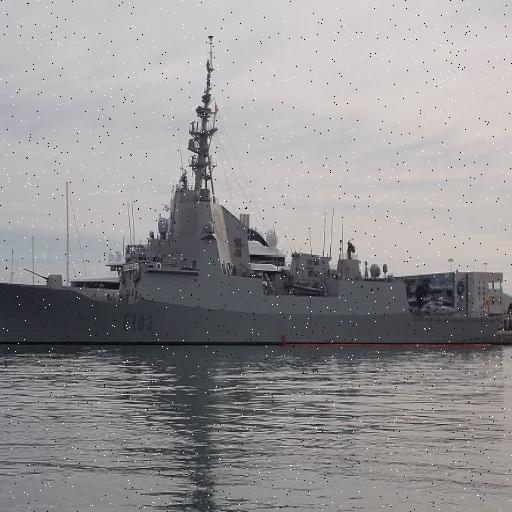Fragata: (1, 4, 508, 352)
